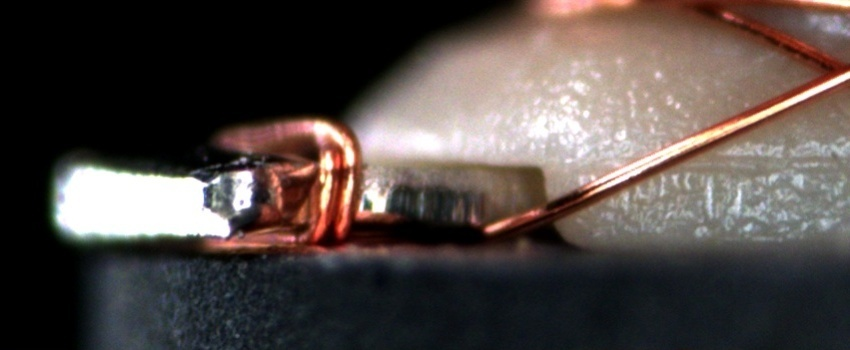CL: (797, 42, 850, 99)
DL: (625, 131, 849, 195)
TE: (199, 103, 379, 252)
